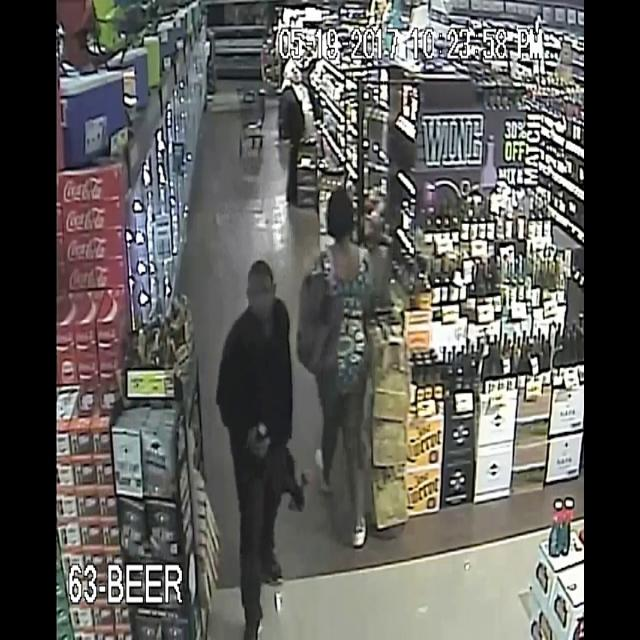Product: (250, 409, 276, 479)
normal: (292, 163, 397, 529), (265, 39, 322, 160)
shoplifting: (184, 225, 326, 640)
